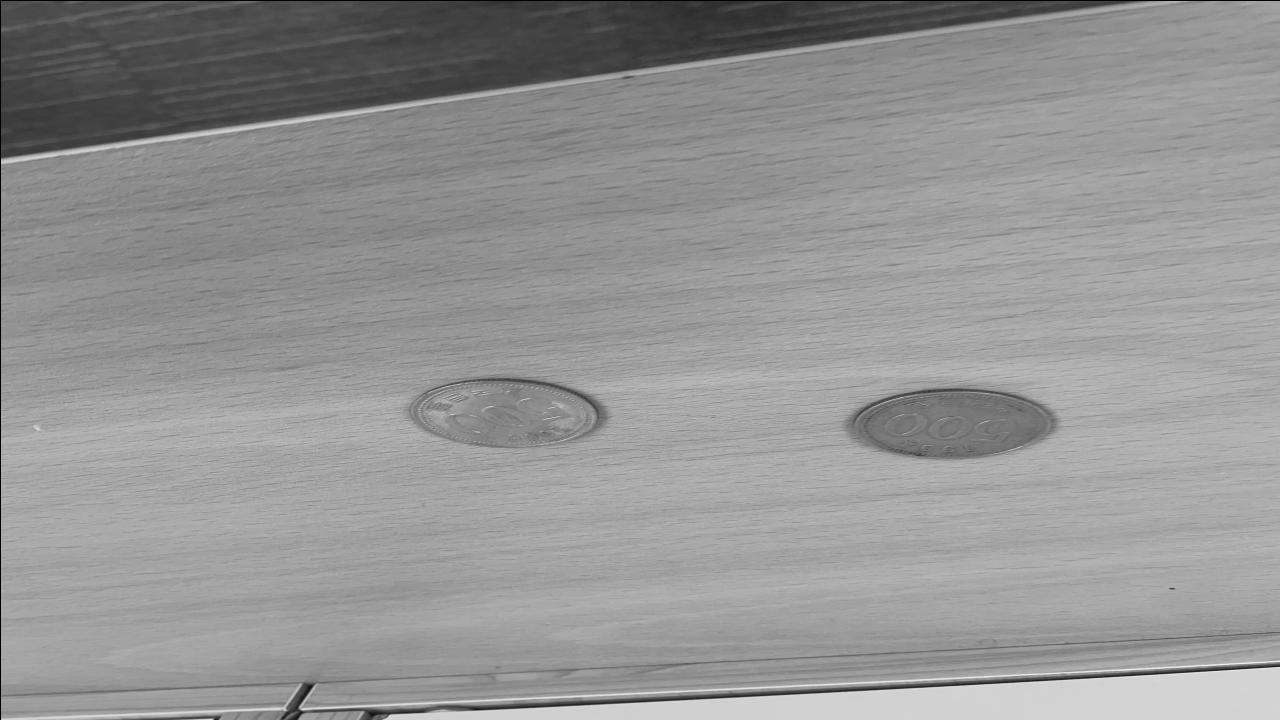coin: (850, 387, 1054, 459), (403, 378, 600, 450)
